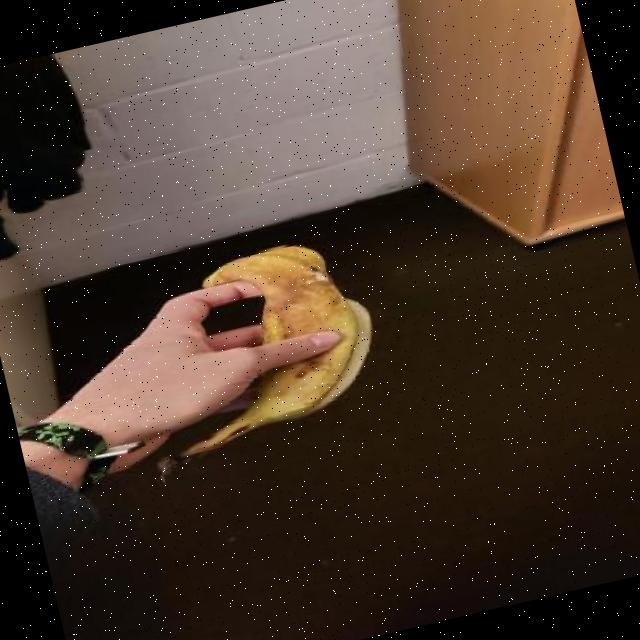banana-peel: (114, 225, 396, 480)
